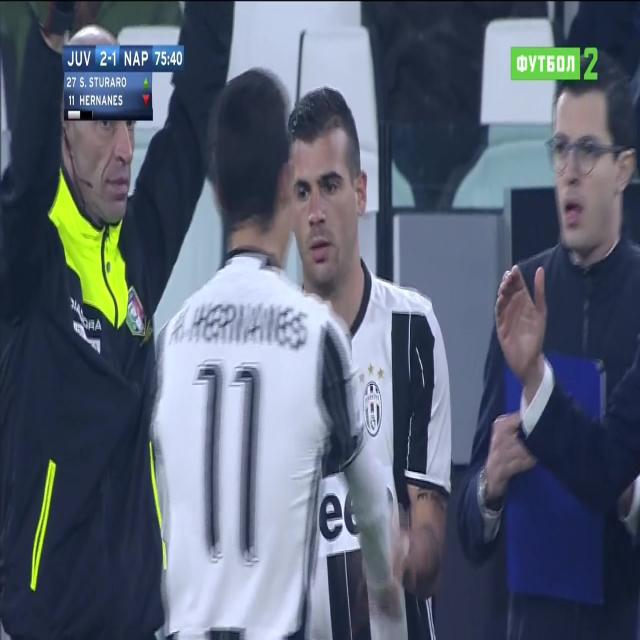Player: (143, 65, 402, 640), (288, 81, 456, 626)
